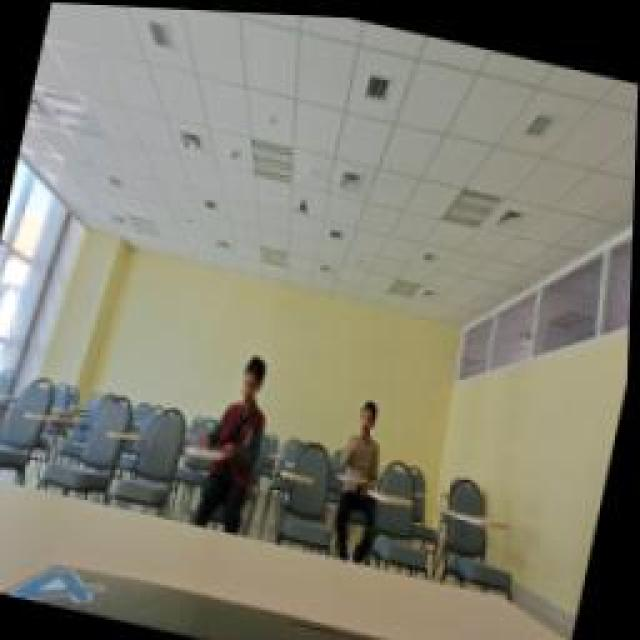study: (192, 340, 282, 465), (342, 395, 400, 480)
